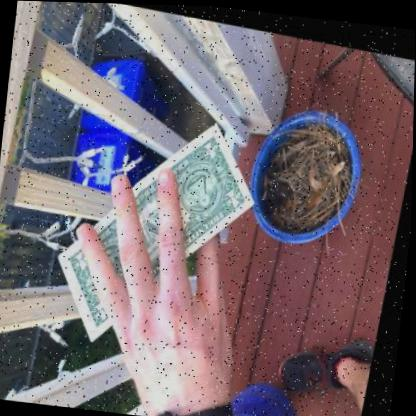dollar_back: (65, 117, 260, 339)
